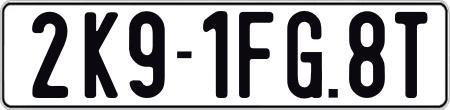1: (201, 8, 231, 101)
2: (30, 10, 69, 102)
8: (347, 9, 384, 101)
9: (127, 10, 165, 97)
F: (239, 12, 273, 98)
G: (287, 10, 322, 100)
K: (84, 9, 123, 95)
T: (394, 12, 431, 102)
